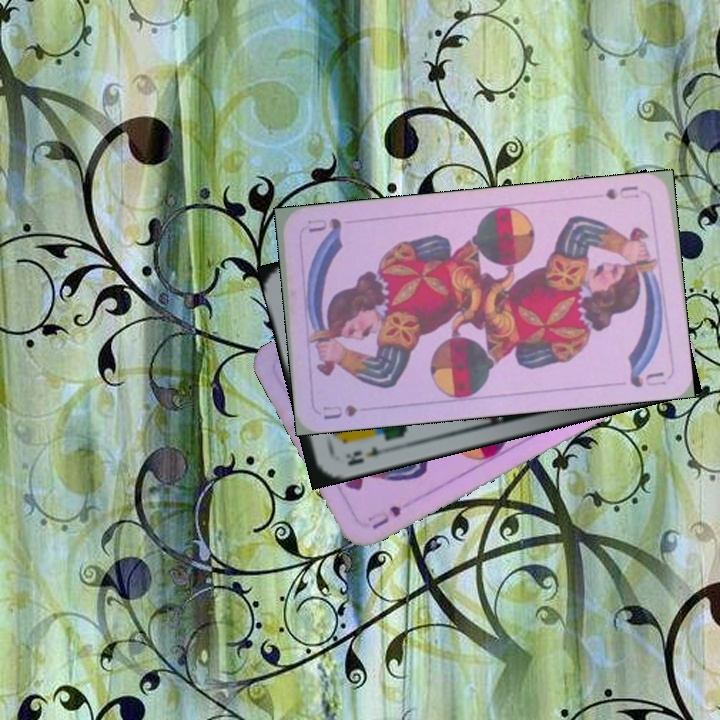EK: (341, 443, 390, 468)
SU: (368, 501, 404, 532), (601, 181, 642, 203), (318, 401, 360, 422)
